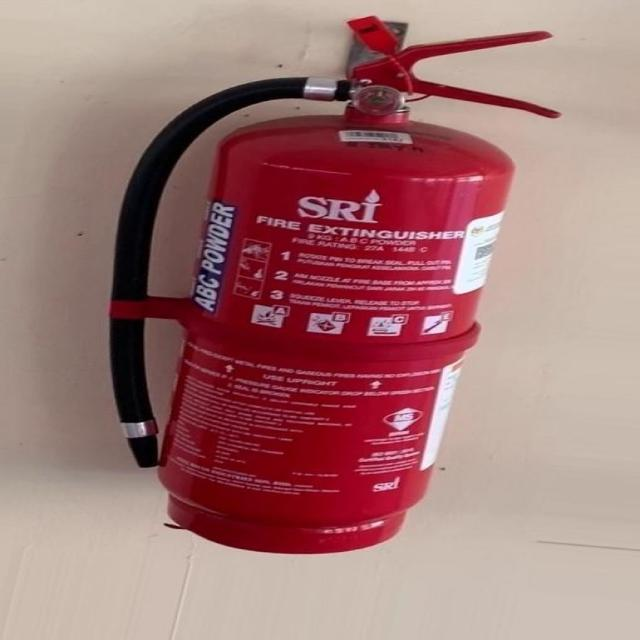fire_extinguisher: (96, 14, 568, 559)
